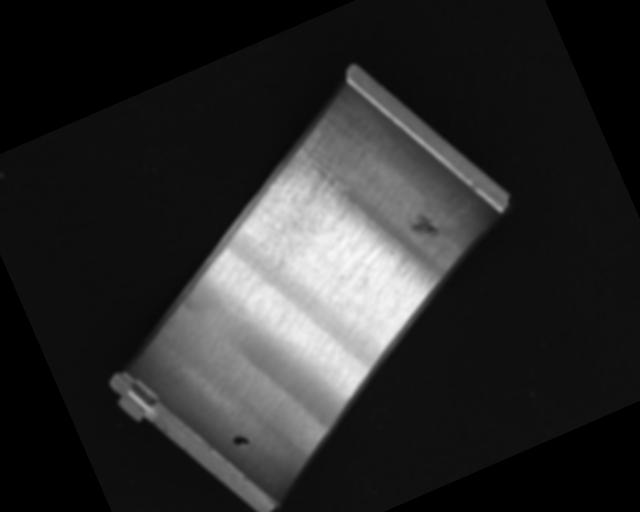blot: (230, 431, 251, 451)
bruise: (405, 208, 441, 243)
scratch: (226, 114, 373, 256)
